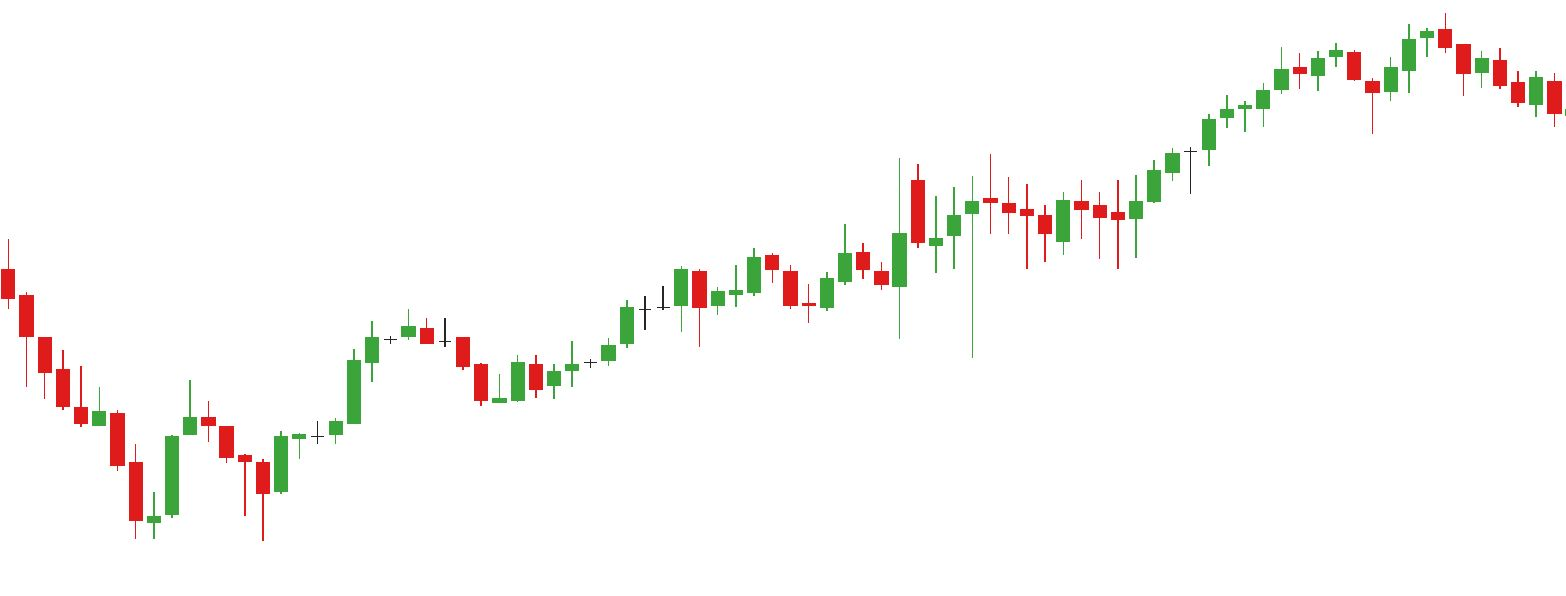buy: (799, 220, 909, 347)
